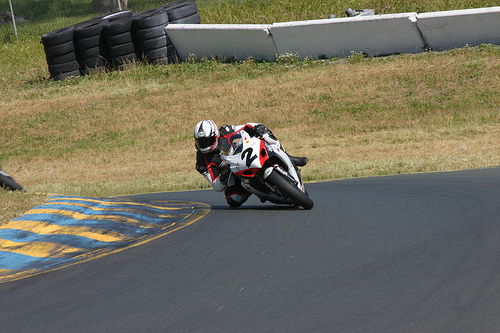helmet: (193, 118, 219, 147)
